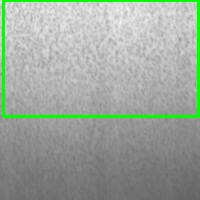pitted_surface: (3, 1, 198, 116)
